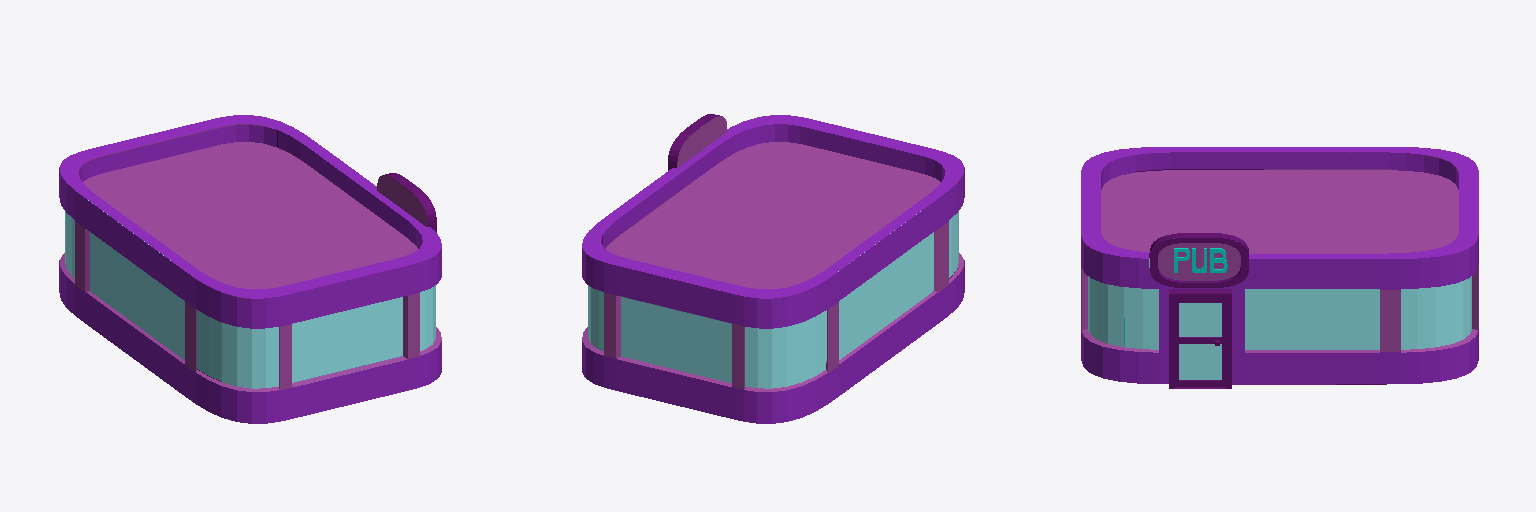
3 views of the same model, side by side, from view 1: azimuth 30°, elevation 25°; view 2: azimuth 150°, elevation 25°; view 3: azimuth 270°, elevation 25° (orthographic).
Parts seen in each view (by area): view 1: Cube.017; view 2: Cube.017; view 3: Cube.017.
Part boxes in pixels (left/top/right/bottom): Cube.017: left=59, top=115, right=441, bottom=423; Cube.017: left=582, top=114, right=964, bottom=423; Cube.017: left=1081, top=147, right=1478, bottom=388.
Size of the model in its own units: 5.07 by 3.01 by 7.24.
1 materials, 1 textured.